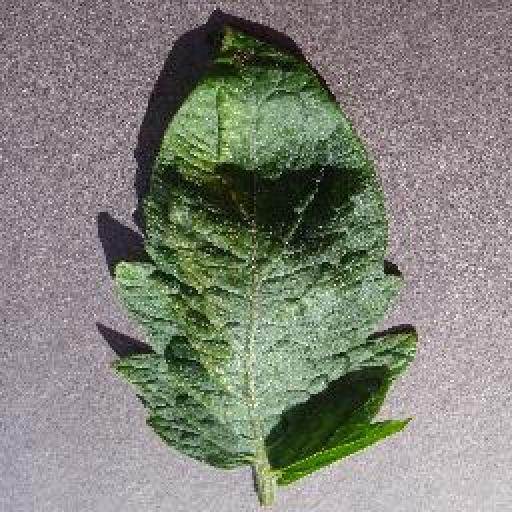disease_tomato: (111, 20, 421, 488)
